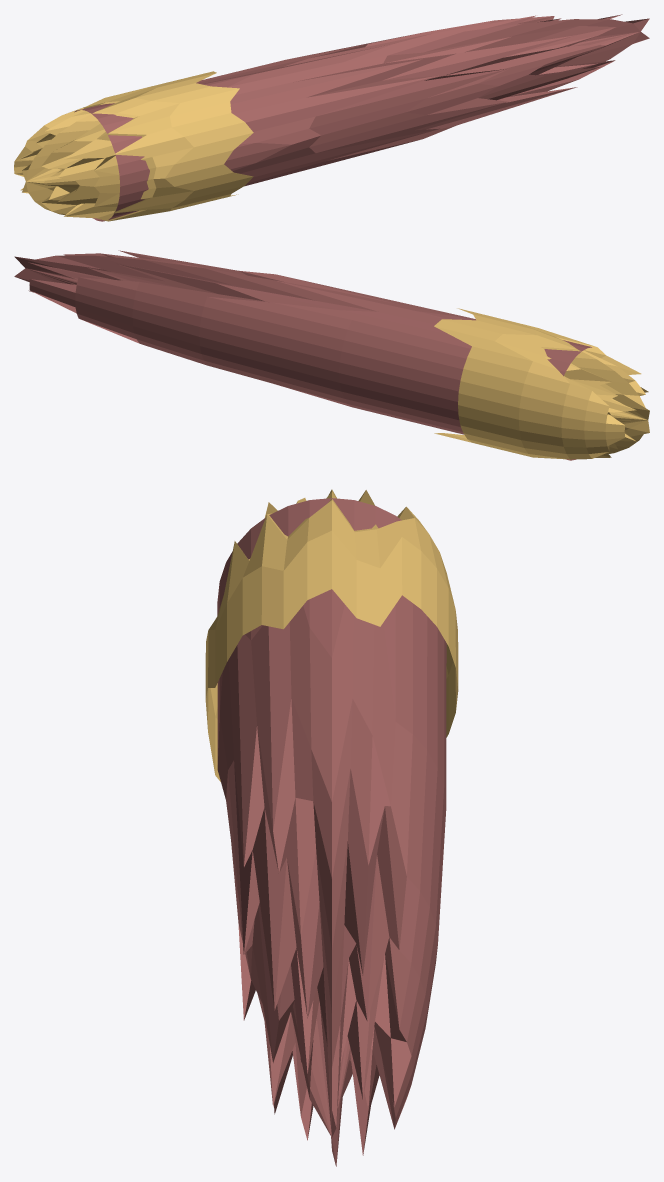
Rendered from Fuego motor final.fbx.
3 renders of one model, top to bottom at view 1: azimuth 30°, elevation 25°; view 2: azimuth 150°, elevation 25°; view 3: azimuth 270°, elevation 25°, orthographic. The views are drawn at different scales.
Parts seen in each view (by area): view 1: Sphere, Sphere.003; view 2: Sphere, Sphere.003; view 3: Sphere, Sphere.003.
Boxes of the visible parts, x1,y1,x2,y2 form: Sphere: [74, 14, 649, 221]; Sphere.003: [14, 71, 253, 221]; Sphere: [14, 250, 591, 460]; Sphere.003: [434, 308, 649, 459]; Sphere: [217, 498, 446, 1166]; Sphere.003: [205, 489, 458, 781].
Bounding box in the file's own units: 1264 × 220 × 220.
